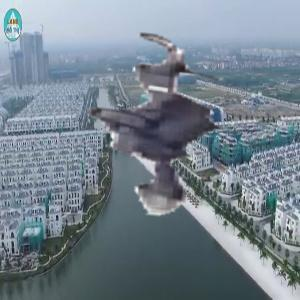drone: (86, 29, 294, 237)
